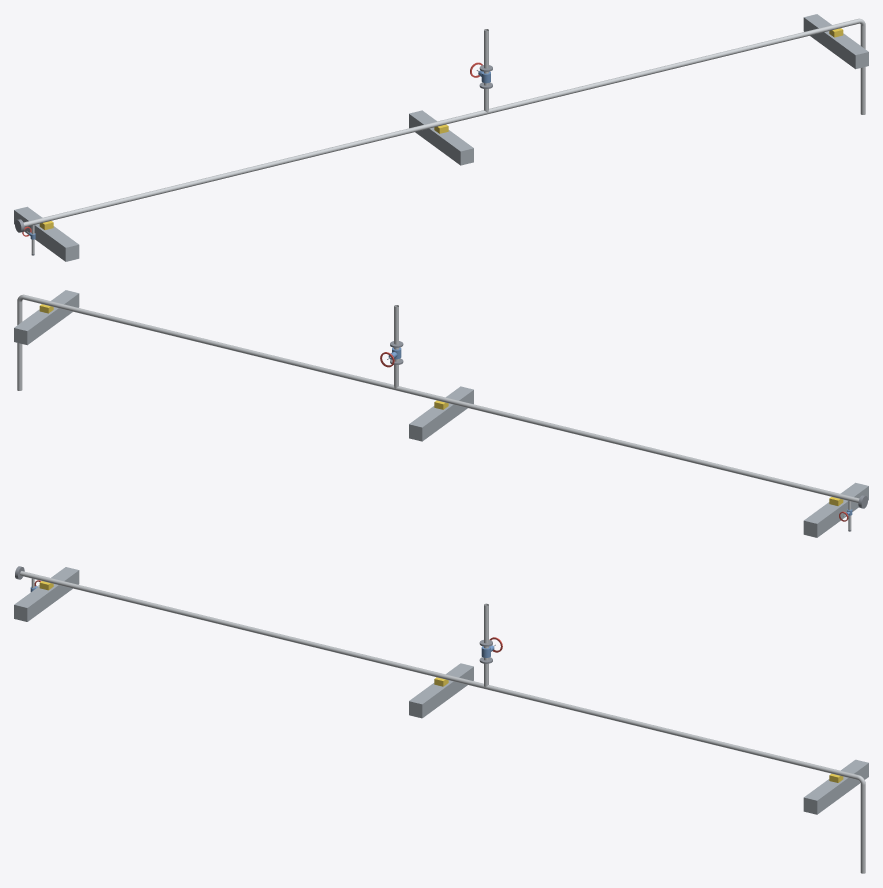
The model's file is PA-00011-view.glb.
3 views of the same model, one above another, from view 1: azimuth 30°, elevation 25°; view 2: azimuth 150°, elevation 25°; view 3: azimuth 330°, elevation 25° (orthographic).
Visible parts, largest first — view 1: pipe, steel; view 2: pipe, steel; view 3: pipe, steel.
Part boxes in pixels (box(x1,y1,x2,y2)): pipe: box(23, 18, 865, 253); steel: box(14, 14, 868, 261); pipe: box(17, 294, 859, 529); steel: box(14, 290, 868, 537); pipe: box(20, 571, 865, 873); steel: box(14, 567, 868, 814).
Size of the model in its own units: 9.44 by 1.87 by 1.
